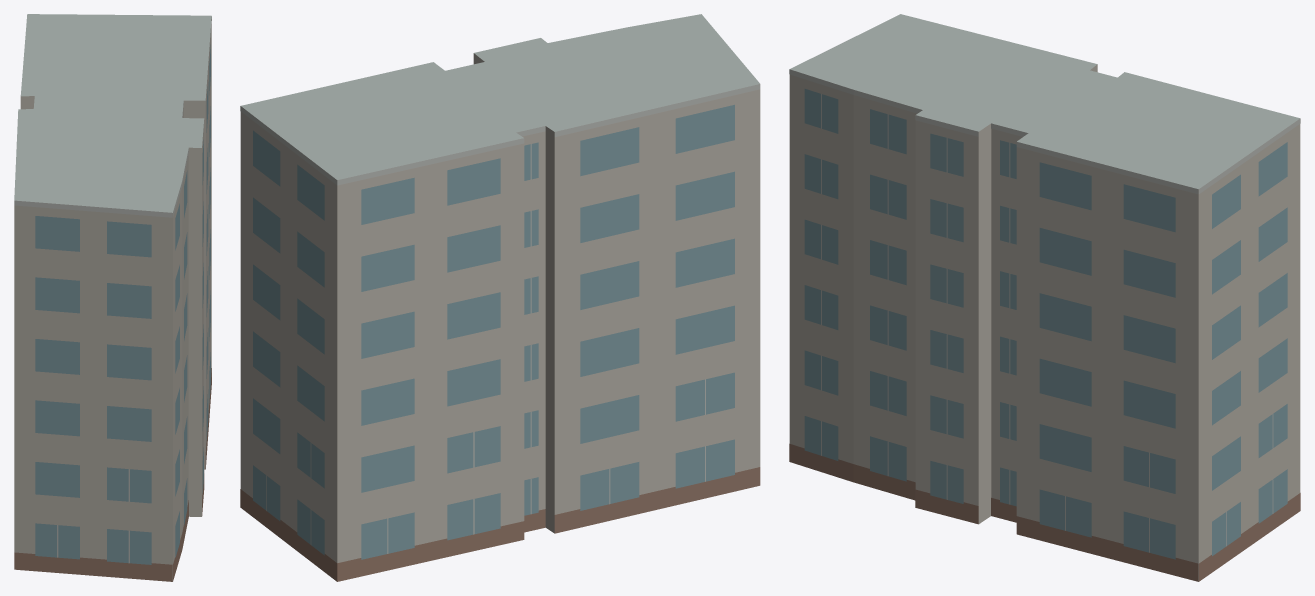
File: survey-upis-32592844.glb
3 renders of one model, left to right at view 1: azimuth 30°, elevation 25°; view 2: azimuth 150°, elevation 25°; view 3: azimuth 270°, elevation 25°, orthographic. The views are drawn at different scales.
Parts seen in each view (by area): view 1: survey-upis-32592844.tmp; view 2: survey-upis-32592844.tmp; view 3: survey-upis-32592844.tmp.
Boxes of the visible parts, x1,y1,x2,y2 form: survey-upis-32592844.tmp: (14, 14, 211, 581); survey-upis-32592844.tmp: (240, 14, 760, 581); survey-upis-32592844.tmp: (789, 14, 1300, 581).
Size of the model in its own units: 17.53 by 18.3 by 21.59.
